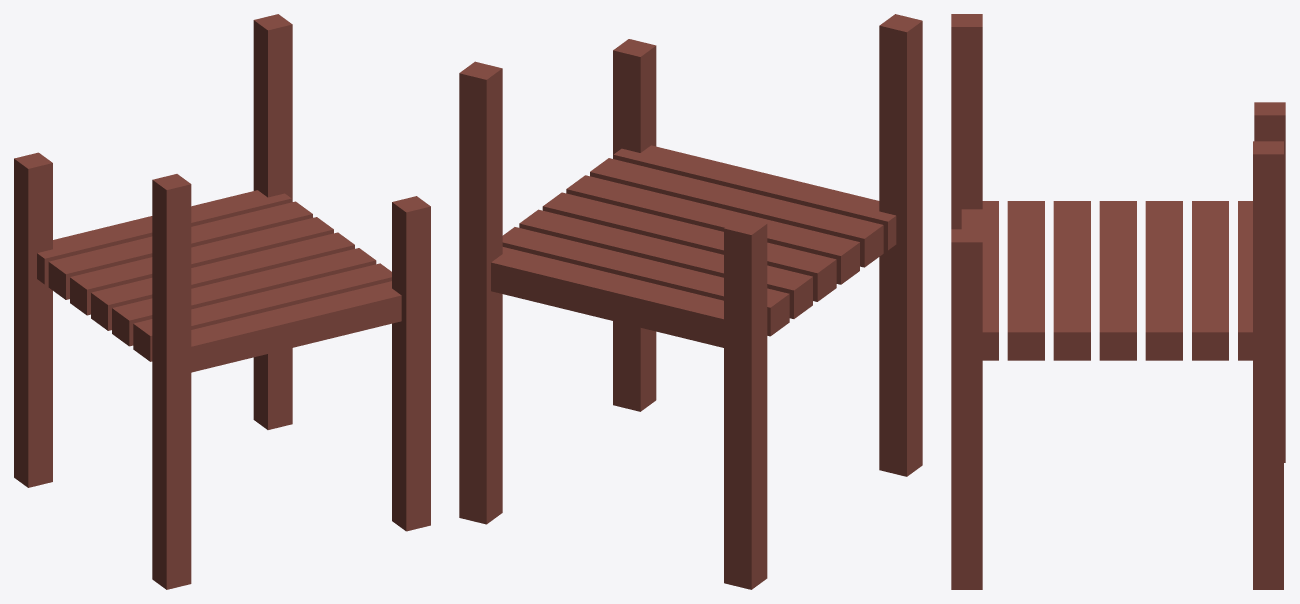
Rendered from furniture3.fbx.
3 views of the same model, side by side, from view 1: azimuth 30°, elevation 25°; view 2: azimuth 150°, elevation 25°; view 3: azimuth 270°, elevation 25° (orthographic). The views are drawn at different scales.
Parts seen in each view (by area): view 1: Cube, Cube.003, Cube.002, Cube.005, Cube.004; view 2: Cube, Cube.004, Cube.003, Cube.005, Cube.002; view 3: Cube, Cube.004, Cube.002, Cube.003, Cube.005.
Boxes of the visible parts, x1=… form: Cube: x1=37, y1=190, x2=401, y2=372; Cube.003: x1=152, y1=174, x2=191, y2=589; Cube.002: x1=392, y1=196, x2=430, y2=531; Cube.005: x1=14, y1=152, x2=52, y2=487; Cube.004: x1=253, y1=14, x2=292, y2=429; Cube: x1=491, y1=145, x2=896, y2=347; Cube.004: x1=459, y1=61, x2=502, y2=524; Cube.003: x1=879, y1=14, x2=922, y2=476; Cube.005: x1=724, y1=217, x2=767, y2=589; Cube.002: x1=613, y1=39, x2=656, y2=411; Cube: x1=961, y1=201, x2=1252, y2=360; Cube.004: x1=1253, y1=141, x2=1283, y2=589; Cube.002: x1=951, y1=229, x2=982, y2=589; Cube.003: x1=951, y1=14, x2=982, y2=229; Cube.005: x1=1254, y1=102, x2=1285, y2=462.
Bounding box in the file's own units: 107 × 155 × 108.
